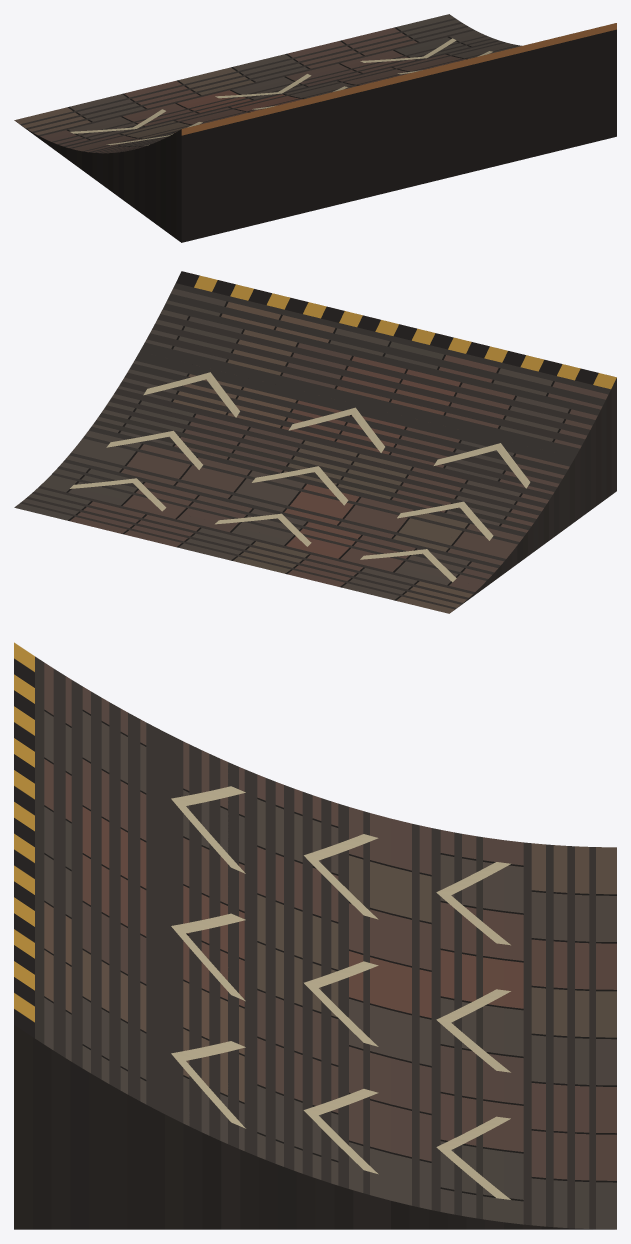
The model's file is plate_kicker_16x6x24.glb.
3 renders of one model, top to bottom at view 1: azimuth 30°, elevation 25°; view 2: azimuth 150°, elevation 25°; view 3: azimuth 270°, elevation 25°, orthographic. The views are drawn at different scales.
Parts seen in each view (by area): view 1: plate_kicker_16x6x24, plate_kicker_16x6x24-col; view 2: plate_kicker_16x6x24, plate_kicker_16x6x24-col; view 3: plate_kicker_16x6x24, plate_kicker_16x6x24-col.
Boxes of the visible parts, box(x1,y1,x2,y2) form: plate_kicker_16x6x24: box(14, 14, 616, 242); plate_kicker_16x6x24-col: box(20, 18, 519, 153); plate_kicker_16x6x24: box(14, 271, 616, 613); plate_kicker_16x6x24-col: box(20, 283, 610, 609); plate_kicker_16x6x24: box(14, 642, 616, 1229); plate_kicker_16x6x24-col: box(35, 656, 595, 1229).
Size of the model in its own units: 24 by 6 by 16.
